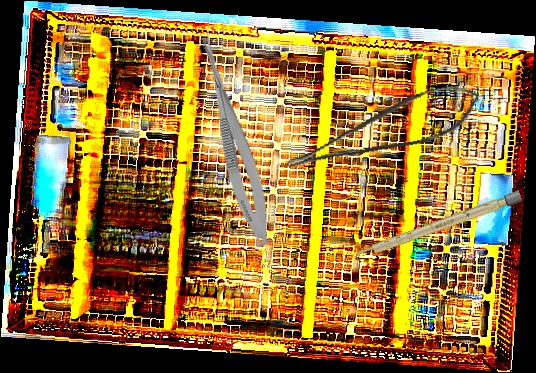Micro Scissor: (184, 24, 280, 251), (278, 78, 486, 174)
Scalpel Handle: (352, 190, 523, 262)
